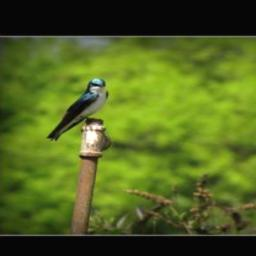Swallow: (44, 77, 108, 142)
